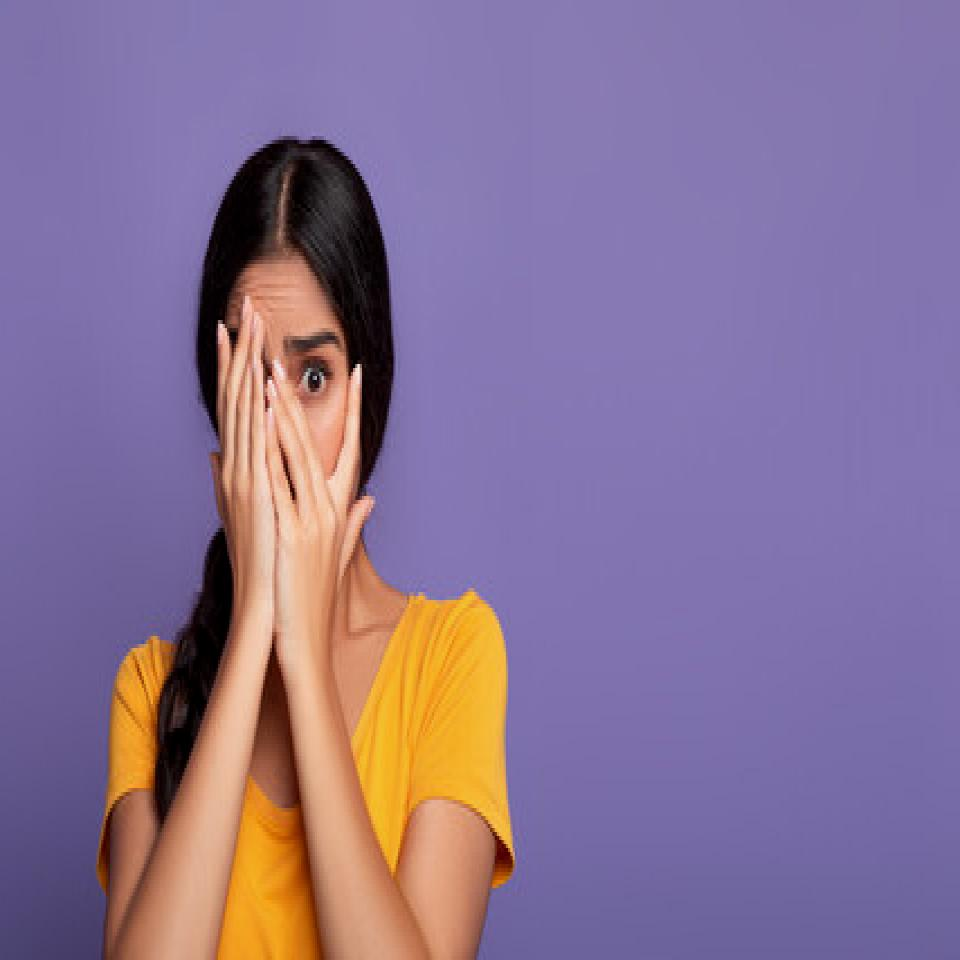Scared: (216, 264, 366, 560)
